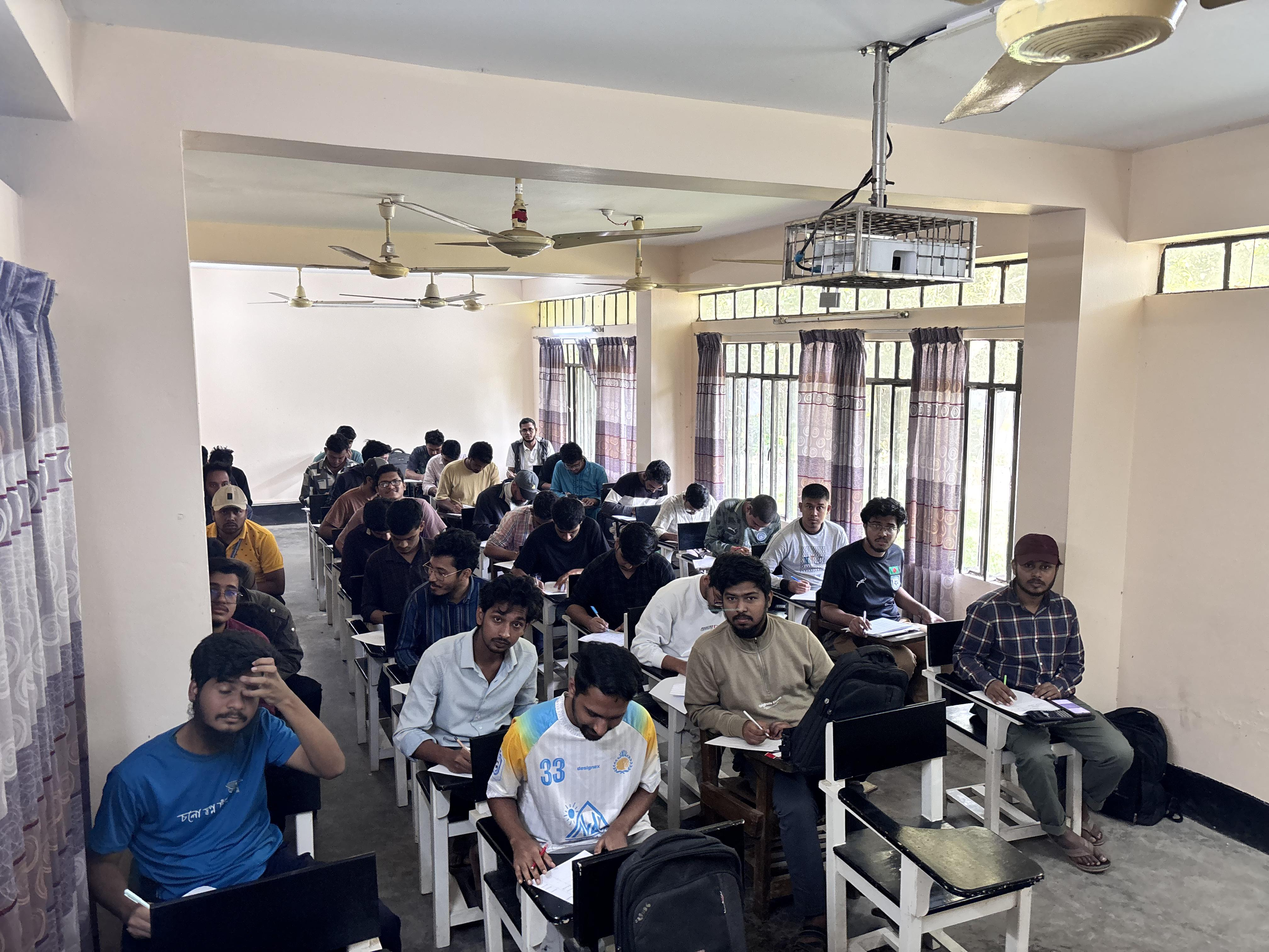no_cheating: (117, 628, 314, 915), (496, 641, 640, 872), (699, 558, 825, 764), (836, 488, 943, 658), (450, 578, 534, 720), (781, 483, 849, 591), (595, 524, 660, 613), (720, 488, 788, 570), (610, 458, 677, 539), (210, 486, 274, 570), (542, 504, 598, 591), (670, 549, 729, 624), (384, 491, 428, 585), (660, 478, 718, 548), (553, 442, 606, 501), (493, 468, 551, 517), (205, 563, 254, 621), (456, 440, 503, 499), (514, 415, 559, 473), (316, 433, 352, 478), (373, 466, 408, 504), (419, 427, 452, 466), (439, 440, 465, 472)
side_talking: (420, 527, 479, 628)
using_phone: (944, 519, 1122, 785)
